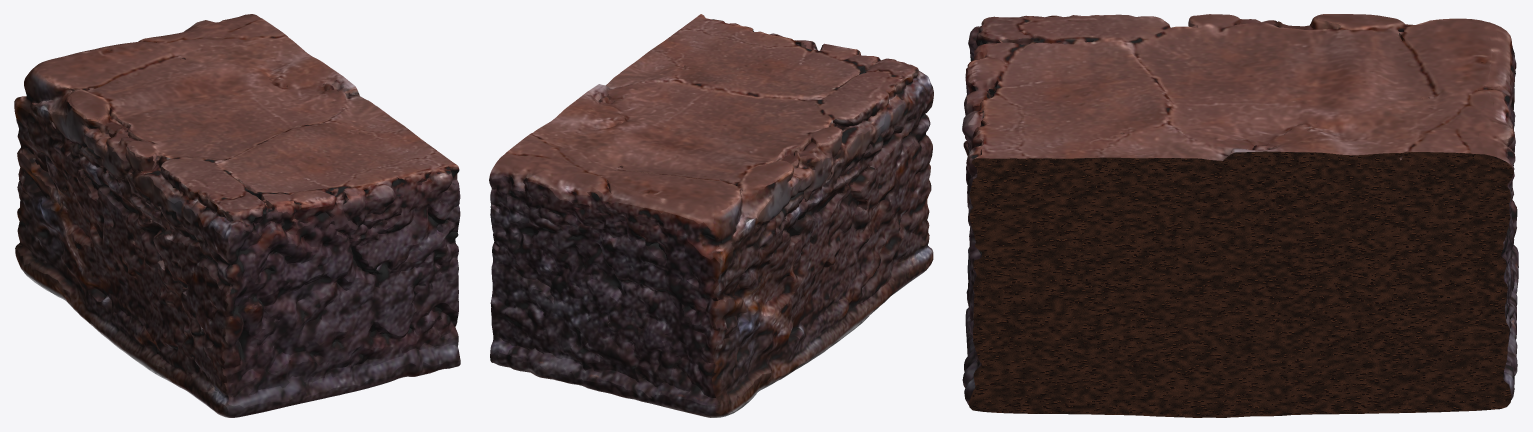
The picture shows the model from 3 angles, left to right: view 1: azimuth 30°, elevation 25°; view 2: azimuth 150°, elevation 25°; view 3: azimuth 270°, elevation 25°; orthographic projection. The views are drawn at different scales.
Visible parts, largest first — view 1: brownie-physical-calibration-80x35x65mm; view 2: brownie-physical-calibration-80x35x65mm; view 3: brownie-physical-calibration-80x35x65mm.
Boxes of the visible parts, <box> form: brownie-physical-calibration-80x35x65mm: <box>14,14,460,417</box>; brownie-physical-calibration-80x35x65mm: <box>489,14,933,417</box>; brownie-physical-calibration-80x35x65mm: <box>962,14,1518,417</box>.
Bounding box in the file's own units: 0.04 × 0.0346 × 0.065.
Materials: 2 (2 with a texture image).
